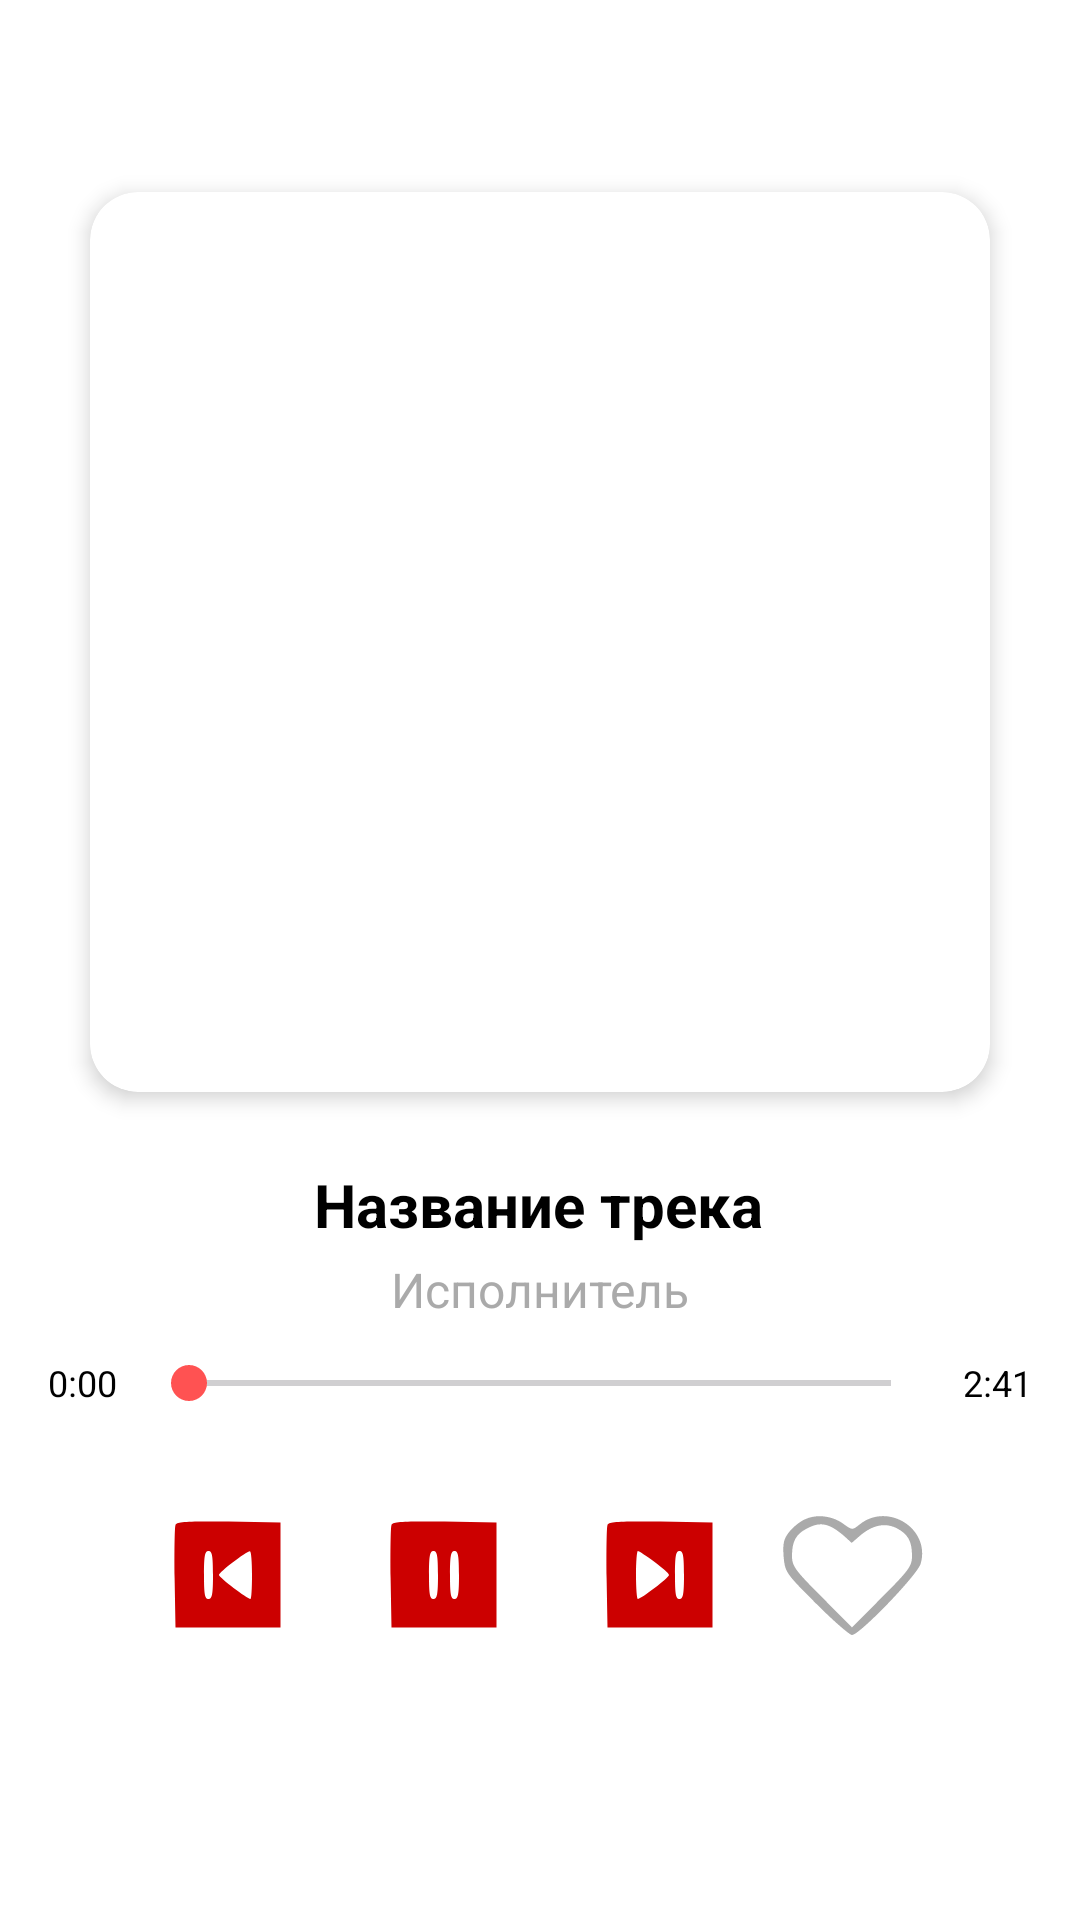

Screen size 1080*1920. Icon name, then its box in pixels as (x1, y1, x2, y2):
favorite: (783, 1516, 922, 1635)
Next track: (606, 1521, 713, 1628)
Play or Pause: (390, 1521, 497, 1628)
Previous track: (174, 1521, 281, 1628)
